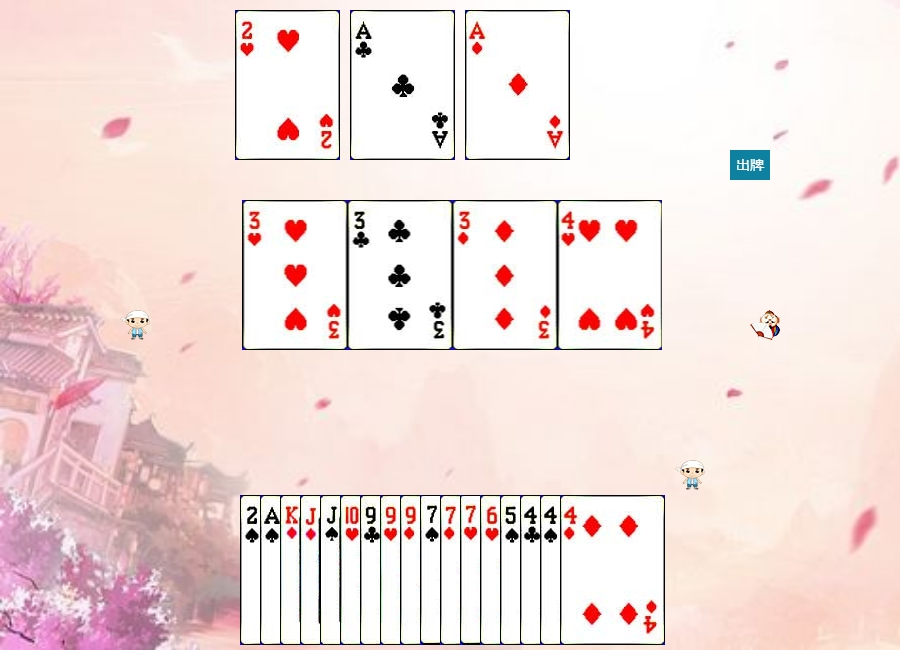10~3: (340, 495, 445, 645)
11~1: (300, 495, 405, 645)
11~4: (320, 495, 425, 645)
13~1: (280, 495, 385, 645)
14~1: (465, 10, 570, 160)
14~2: (350, 10, 455, 160)
14~4: (260, 495, 365, 645)
15~3: (235, 10, 340, 160)
15~4: (240, 495, 345, 645)
3~1: (453, 200, 558, 350)
3~2: (348, 200, 453, 350)
3~3: (243, 200, 348, 350)
4~1: (560, 495, 665, 645)
4~2: (520, 495, 625, 645)
4~3: (558, 200, 663, 350)
4~4: (540, 495, 645, 645)
5~4: (500, 495, 605, 645)
6~3: (480, 495, 585, 645)
7~1: (440, 495, 545, 645)
7~3: (460, 495, 565, 645)
7~4: (420, 495, 525, 645)
9~1: (400, 495, 505, 645)
9~2: (360, 495, 465, 645)
9~3: (380, 495, 485, 645)
